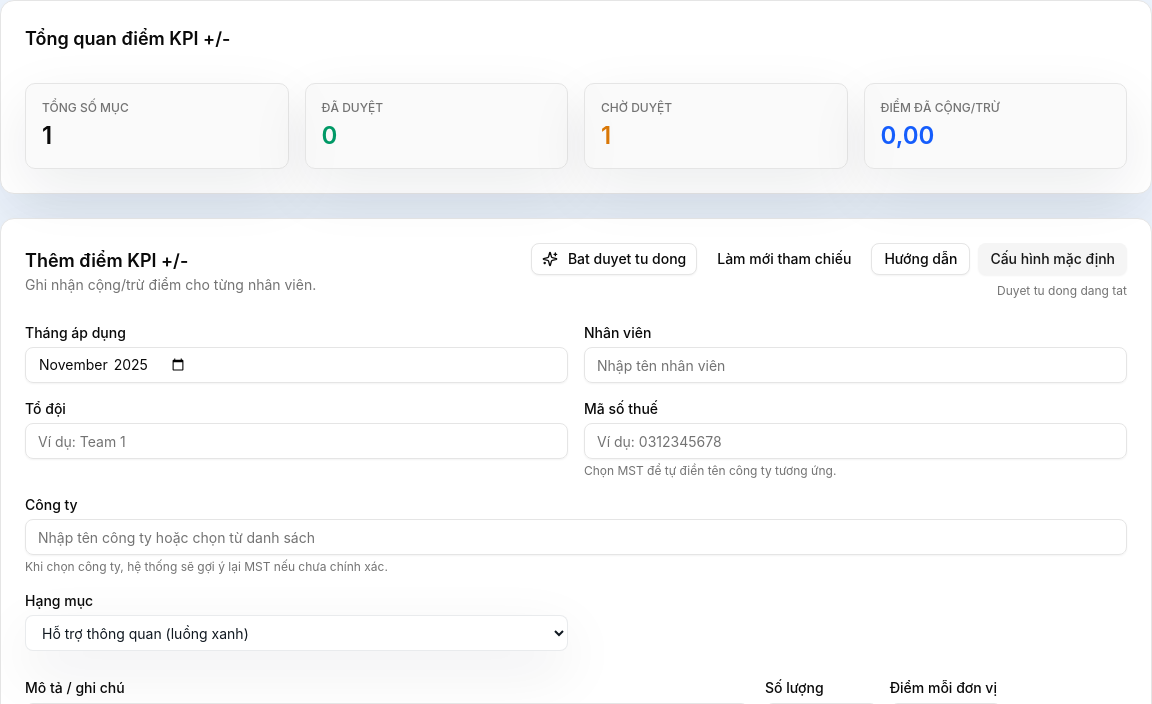
Scenario: KPIAdjustments UI › quan ly co the bat duyet tu dong
Expected: the text "Duyet tu dong dang tat" is shown, [997,283,1127,299]
Click the button with test id "auto-approve-toggle": click(614, 259) [531,243,697,275]
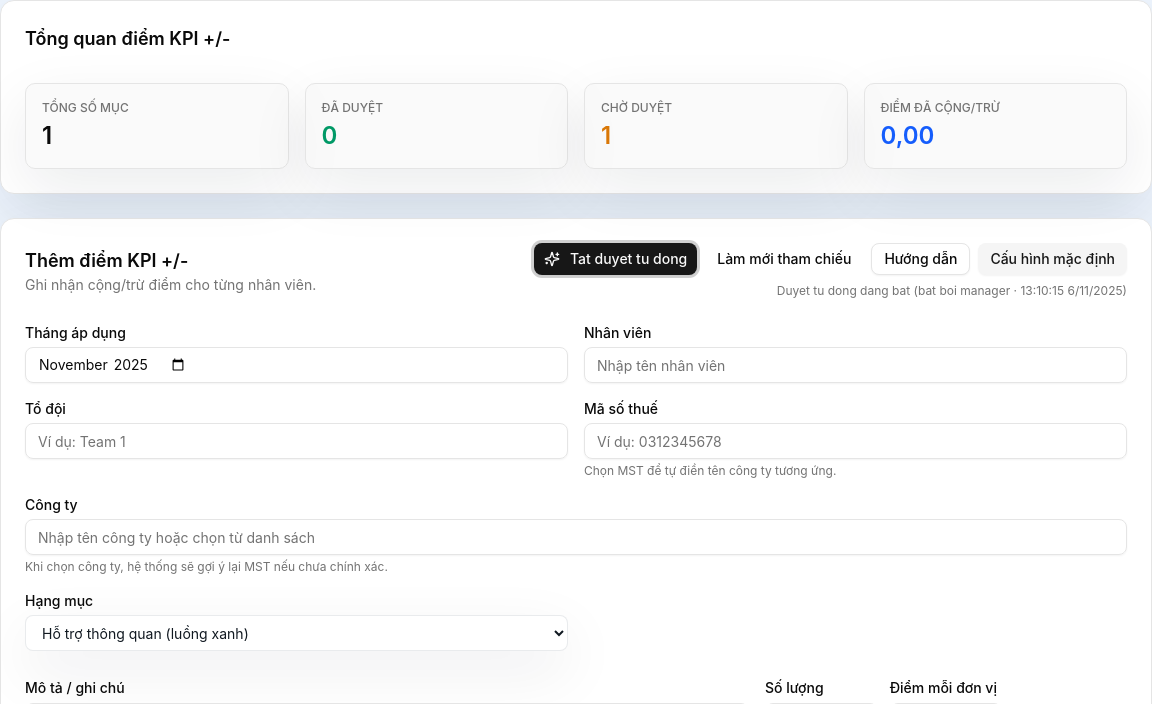
Expected: the button with test id "auto-approve-toggle" reads "Tat duyet tu dong", [534,243,697,275]
Expected: the text "Duyet tu dong dang bat" is shown, [777,283,1127,298]
